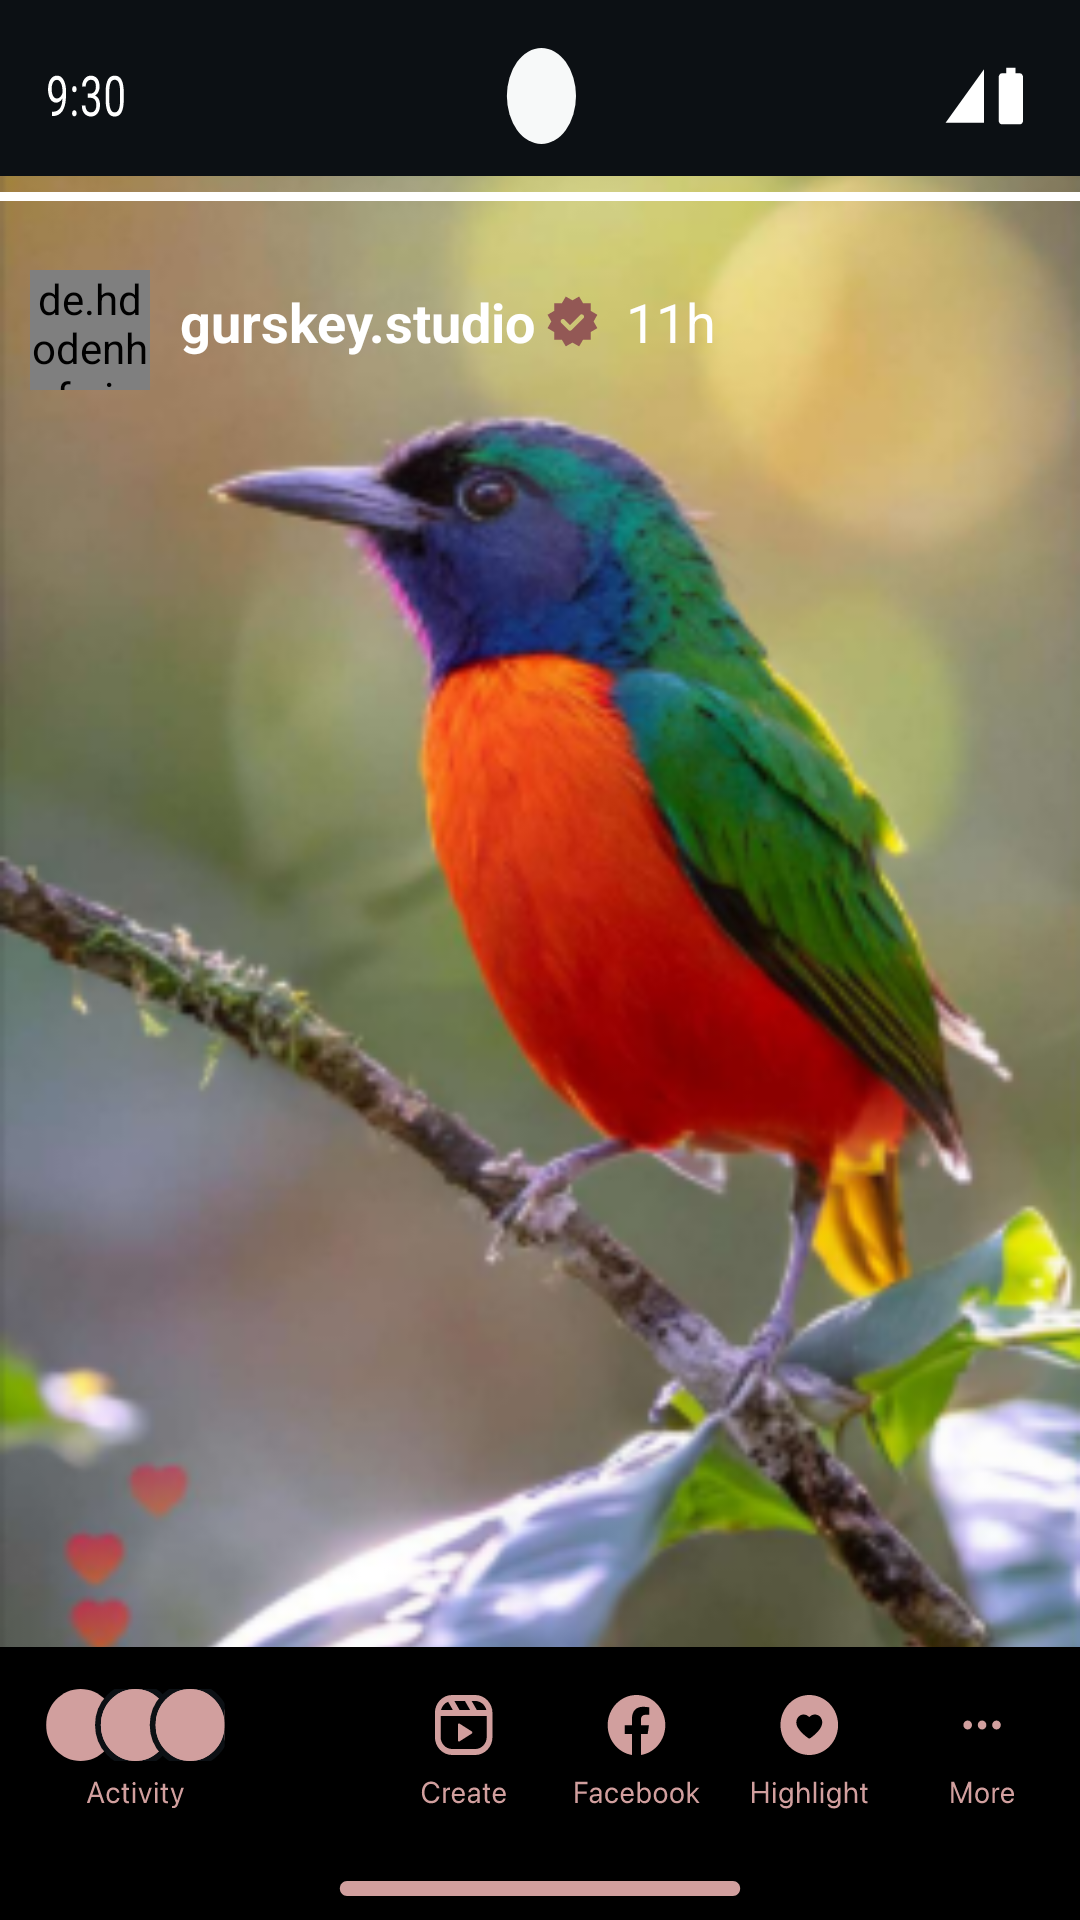

Icon click points for this 1080 × 1920 phone screenshot, format [x,y]:
verfied badge: [572,321]
